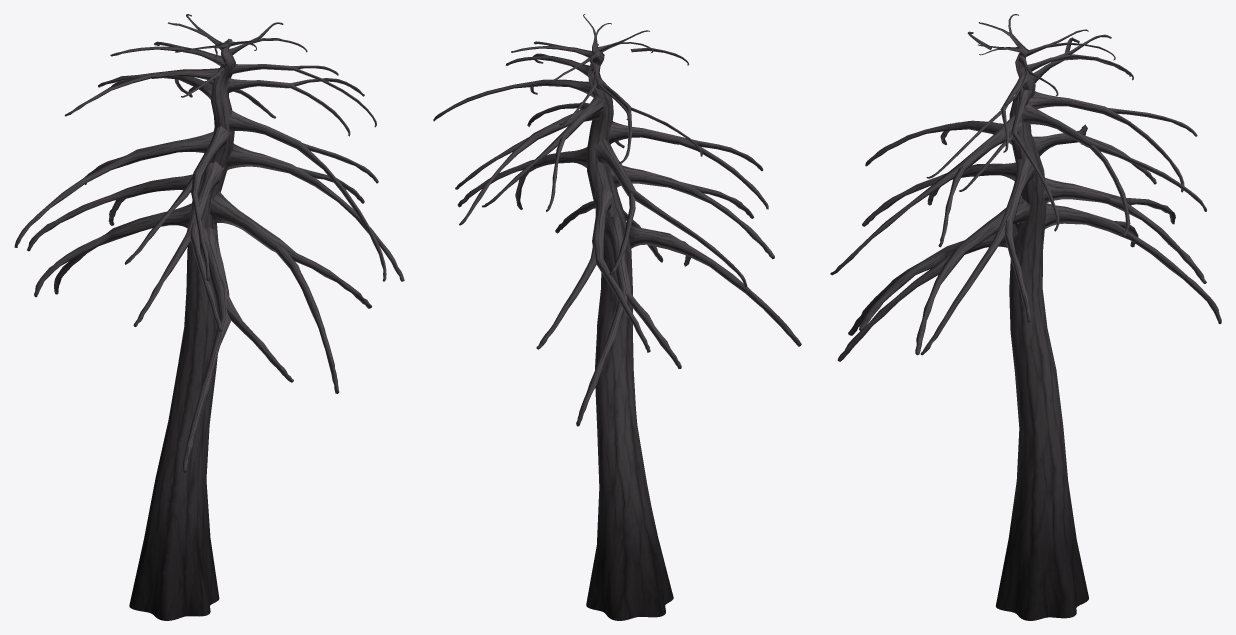
File: DeadTree_4.gltf
The picture shows the model from 3 angles, left to right: view 1: azimuth 30°, elevation 25°; view 2: azimuth 150°, elevation 25°; view 3: azimuth 270°, elevation 25°; orthographic projection. The views are drawn at different scales.
Visible parts, largest first — view 1: DeadTree_4; view 2: DeadTree_4; view 3: DeadTree_4.
Part boxes in pixels (x1,y1,x2,y2): DeadTree_4: (14, 14, 404, 620); DeadTree_4: (433, 14, 801, 620); DeadTree_4: (830, 14, 1221, 620).
Bounding box in the file's own units: 7.96 × 12.77 × 7.73.
Materials: 1 (1 with a texture image).
